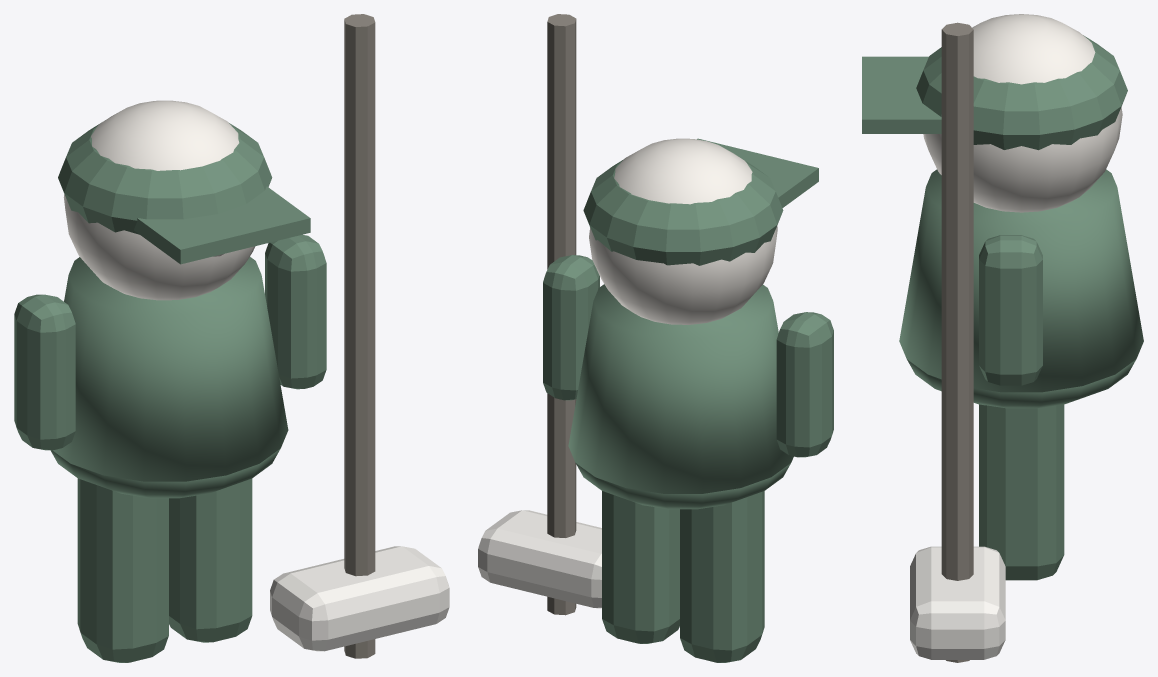
The model's file is janitor.glb.
The picture shows the model from 3 angles, left to right: view 1: azimuth 30°, elevation 25°; view 2: azimuth 150°, elevation 25°; view 3: azimuth 270°, elevation 25°; orthographic projection. The views are drawn at different scales.
Parts seen in each view (by area): view 1: Body, Legs, Cap, MopHandle, Arms, Head, MopHead; view 2: Body, Legs, Head, Cap, Arms, MopHandle, MopHead; view 3: Body, MopHandle, Cap, Head, Legs, MopHead, Arms.
Part boxes in pixels (left/top/right/bottom): Body: left=50, top=257, right=288, bottom=498; Legs: left=77, top=478, right=252, bottom=662; Cap: left=58, top=122, right=310, bottom=264; MopHandle: left=344, top=14, right=375, bottom=658; Arms: left=14, top=234, right=326, bottom=450; Head: left=63, top=100, right=255, bottom=300; MopHead: left=270, top=546, right=449, bottom=651; Body: left=568, top=284, right=793, bottom=509; Legs: left=602, top=491, right=764, bottom=662; Head: left=589, top=138, right=777, bottom=324; Cap: left=583, top=138, right=818, bottom=265; Arms: left=543, top=255, right=833, bottom=457; MopHandle: left=547, top=14, right=576, bottom=615; MopHead: left=478, top=510, right=601, bottom=608; Body: left=899, top=169, right=1143, bottom=408; MopHandle: left=941, top=22, right=973, bottom=662; Cap: left=862, top=35, right=1127, bottom=150; Head: left=923, top=14, right=1122, bottom=212; Legs: left=979, top=404, right=1064, bottom=580; MopHead: left=910, top=546, right=1005, bottom=659; Arms: left=979, top=235, right=1042, bottom=385.
Size of the model in its own units: 0.0415 by 0.065 by 0.0265.
